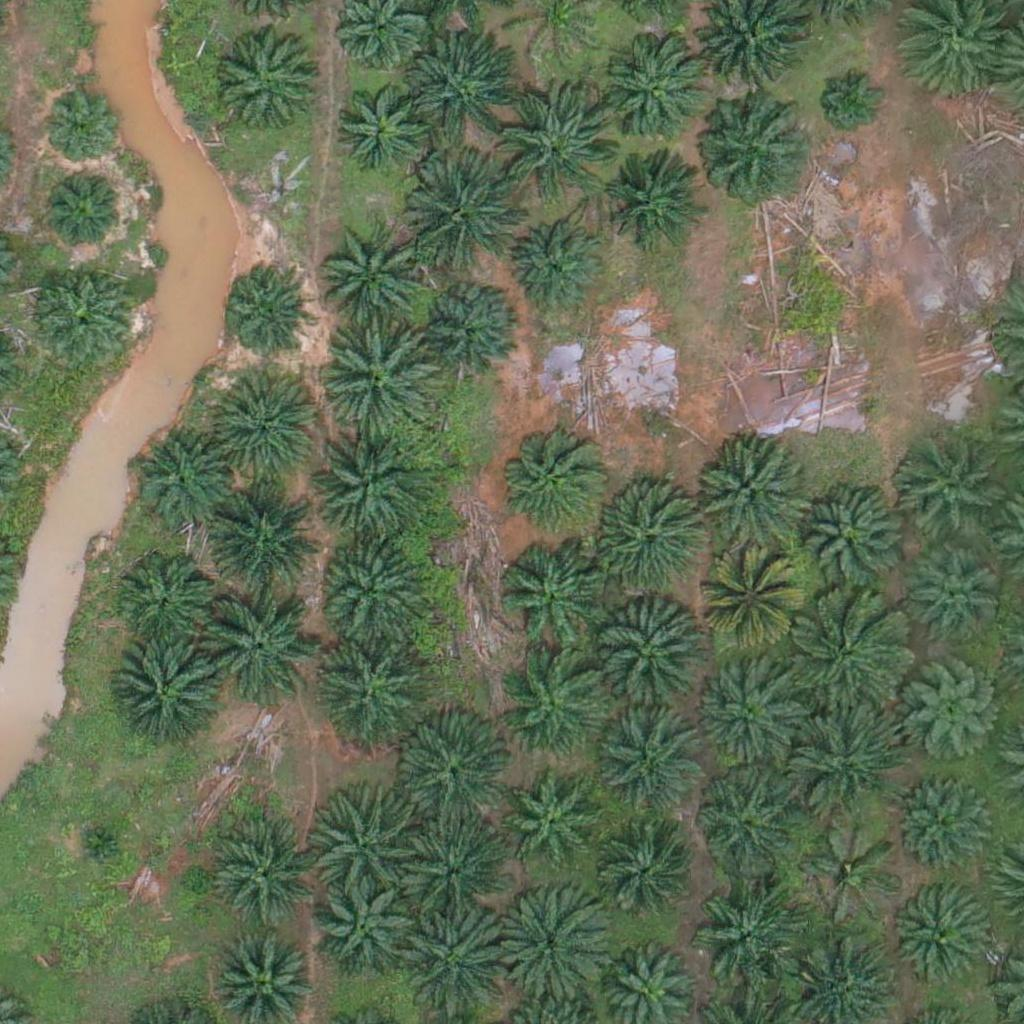Kelapa_Sawit: (493, 886, 606, 1000), (402, 902, 515, 1016), (319, 529, 432, 643), (407, 157, 520, 271), (310, 434, 423, 548), (208, 370, 321, 484), (787, 707, 900, 820), (791, 595, 904, 708), (594, 602, 707, 715), (496, 544, 609, 657), (107, 641, 220, 754), (790, 483, 903, 596), (408, 31, 521, 144), (499, 649, 611, 763), (602, 32, 714, 146), (497, 421, 609, 535), (207, 478, 319, 592), (691, 875, 803, 988), (400, 724, 512, 837), (311, 632, 423, 745), (311, 780, 423, 893), (199, 589, 311, 702), (890, 434, 1002, 547), (693, 440, 805, 553), (583, 484, 695, 597), (696, 98, 808, 211), (500, 87, 612, 200), (321, 211, 433, 324), (325, 325, 437, 438), (894, 772, 994, 873), (891, 888, 991, 989), (692, 661, 792, 762), (694, 773, 794, 874), (600, 718, 700, 819), (501, 773, 601, 874), (313, 878, 413, 979), (114, 551, 214, 652), (417, 278, 517, 379), (331, 74, 431, 175), (220, 30, 320, 131), (33, 263, 133, 364), (133, 431, 233, 532), (897, 667, 997, 767), (803, 823, 903, 923), (698, 555, 798, 655), (592, 832, 692, 932), (403, 821, 503, 921), (214, 829, 314, 929), (603, 151, 703, 251), (506, 224, 606, 324), (910, 557, 997, 645), (221, 264, 308, 352), (40, 166, 127, 254), (43, 93, 118, 169), (814, 61, 889, 136), (72, 816, 122, 867)
